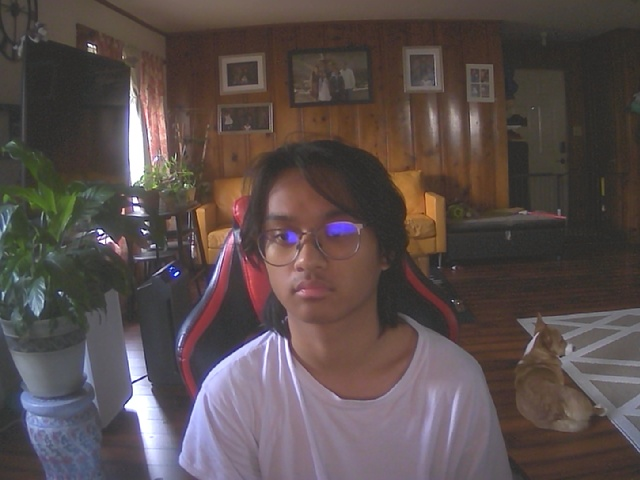neutral: (247, 151, 401, 328)
